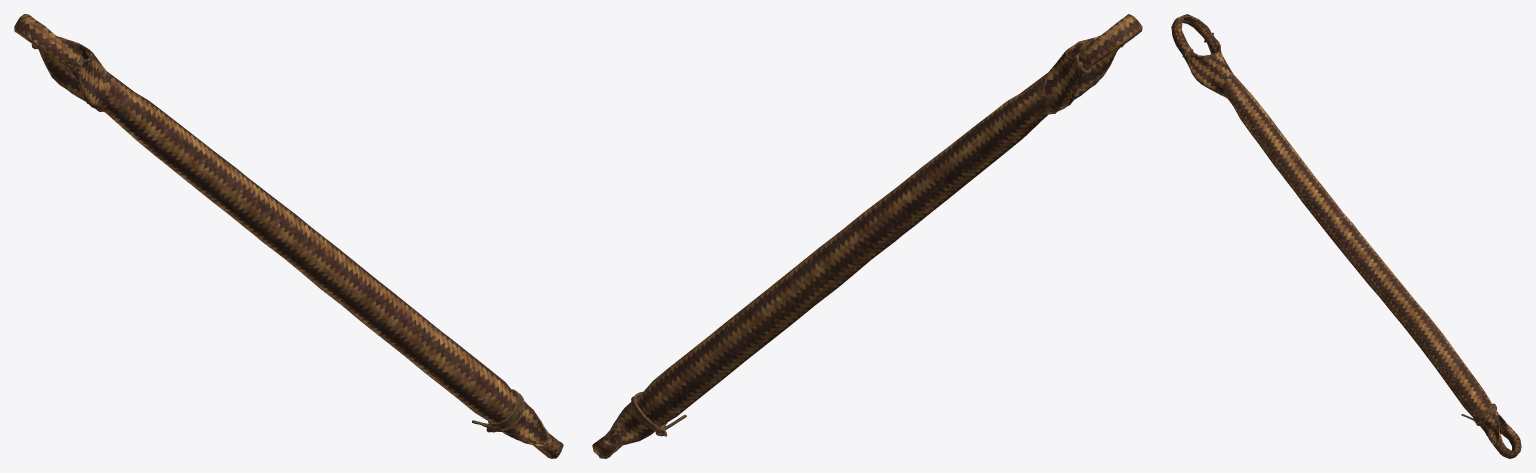
The model's file is SM_Tipiti.glb.
The picture shows the model from 3 angles, left to right: view 1: azimuth 30°, elevation 25°; view 2: azimuth 150°, elevation 25°; view 3: azimuth 330°, elevation 25°; orthographic projection. The views are drawn at different scales.
Visible parts, largest first — view 1: SM_Tipiti; view 2: SM_Tipiti; view 3: SM_Tipiti.
Boxes of the visible parts, x1,y1,x2,y2 form: SM_Tipiti: (14, 14, 563, 458); SM_Tipiti: (592, 14, 1142, 458); SM_Tipiti: (1171, 14, 1521, 458).
Bounding box in the file's own units: 1.04 × 1.03 × 0.1484.
Materials: 1 (1 with a texture image).
